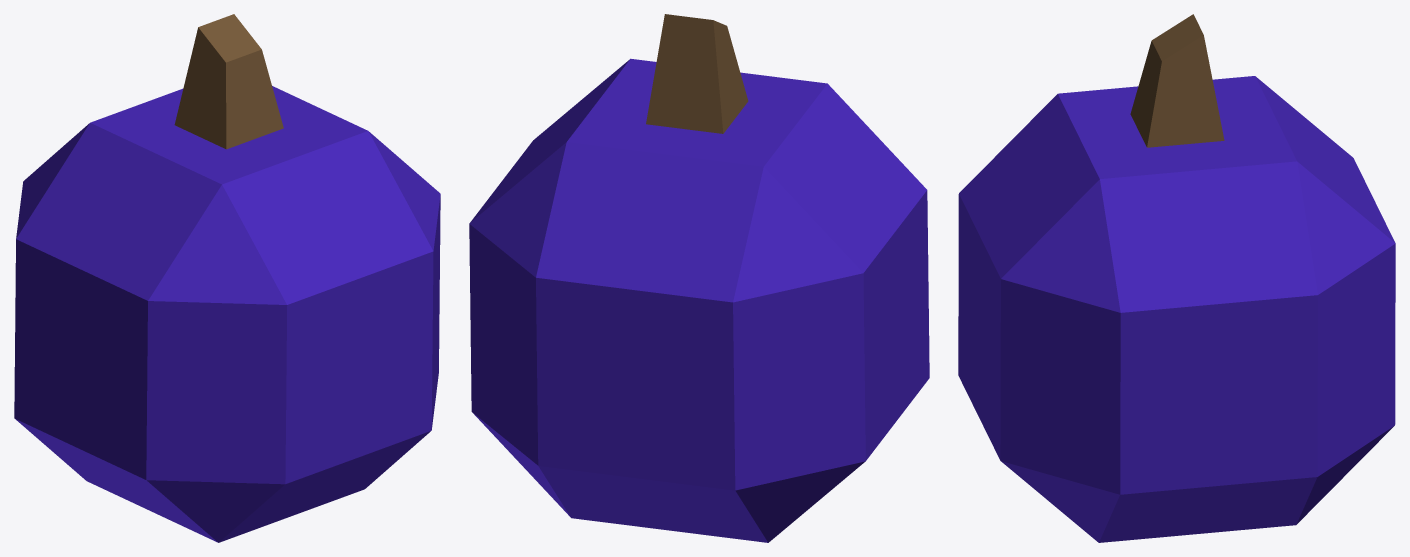
Rendered from BlueBerry.fbx.
The picture shows the model from 3 angles, left to right: view 1: azimuth 30°, elevation 25°; view 2: azimuth 150°, elevation 25°; view 3: azimuth 270°, elevation 25°; orthographic projection. The views are drawn at different scales.
Parts seen in each view (by area): view 1: BlueBerry; view 2: BlueBerry; view 3: BlueBerry.
Boxes of the visible parts, left/top/right/bottom form: BlueBerry: left=14, top=14, right=440, bottom=542; BlueBerry: left=469, top=14, right=929, bottom=542; BlueBerry: left=958, top=14, right=1395, bottom=542.
Size of the model in its own units: 1.59 by 1.88 by 1.59.
